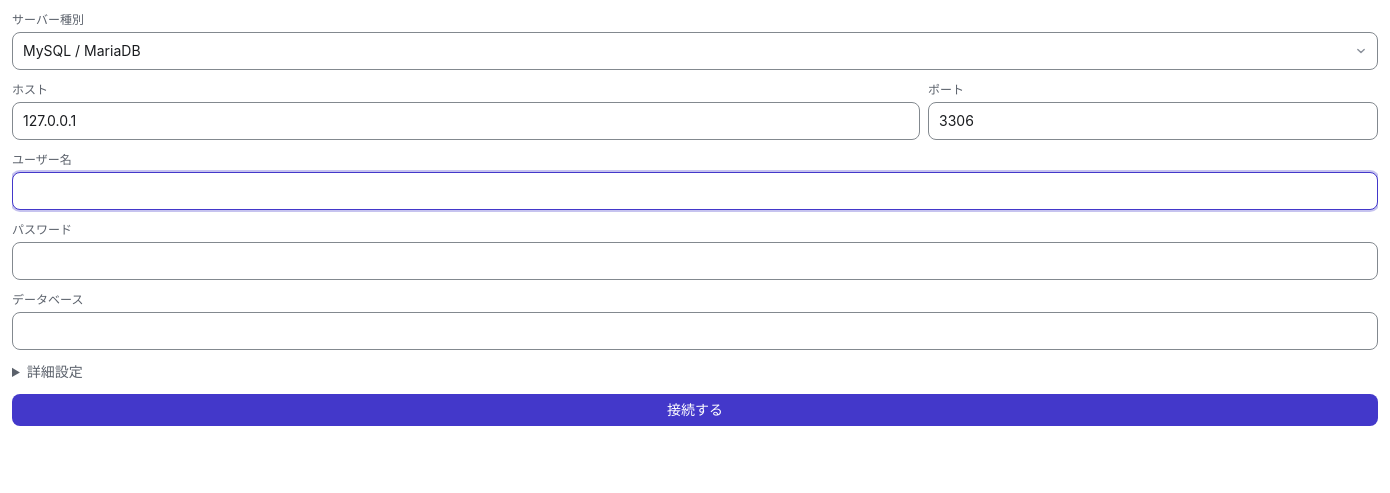
LoginForm › shows the error returned by the server
Type "root" into the field labelled "ユーザー名" at (695, 191), box [12,172,1378,210]
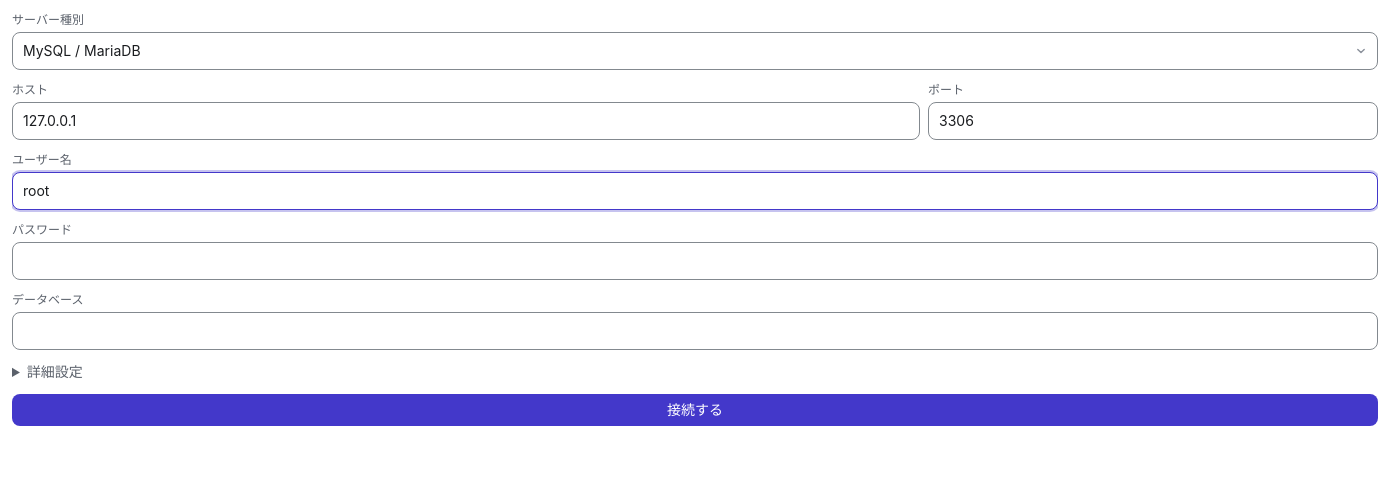
Click the button "接続する" at (695, 410), box [12,394,1378,426]
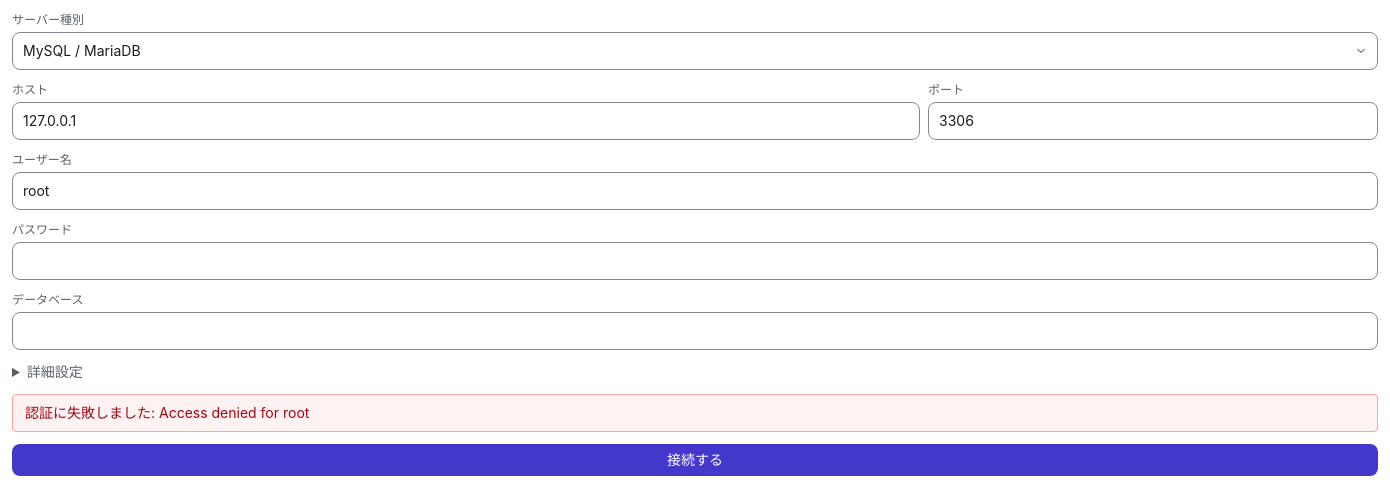
Expected: the message reads "認証に失敗しました: Access denied for root", [25,404,309,421]
